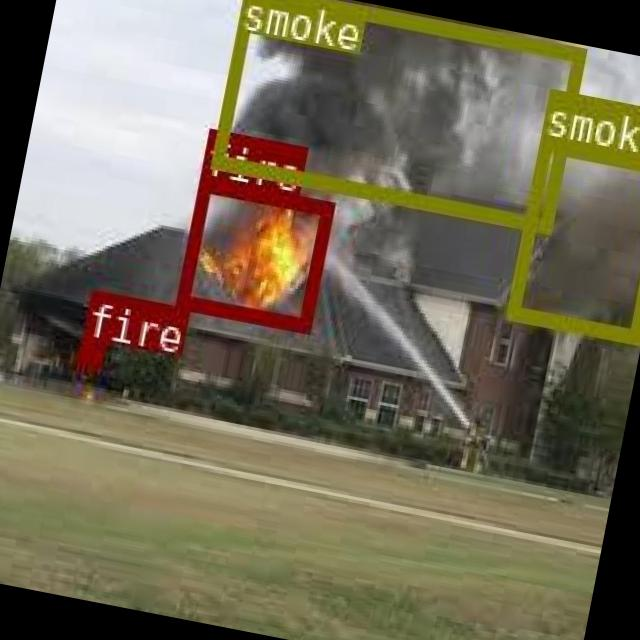fire: (176, 174, 334, 330), (76, 336, 104, 368)
smoke: (208, 0, 584, 232), (504, 135, 640, 339)
